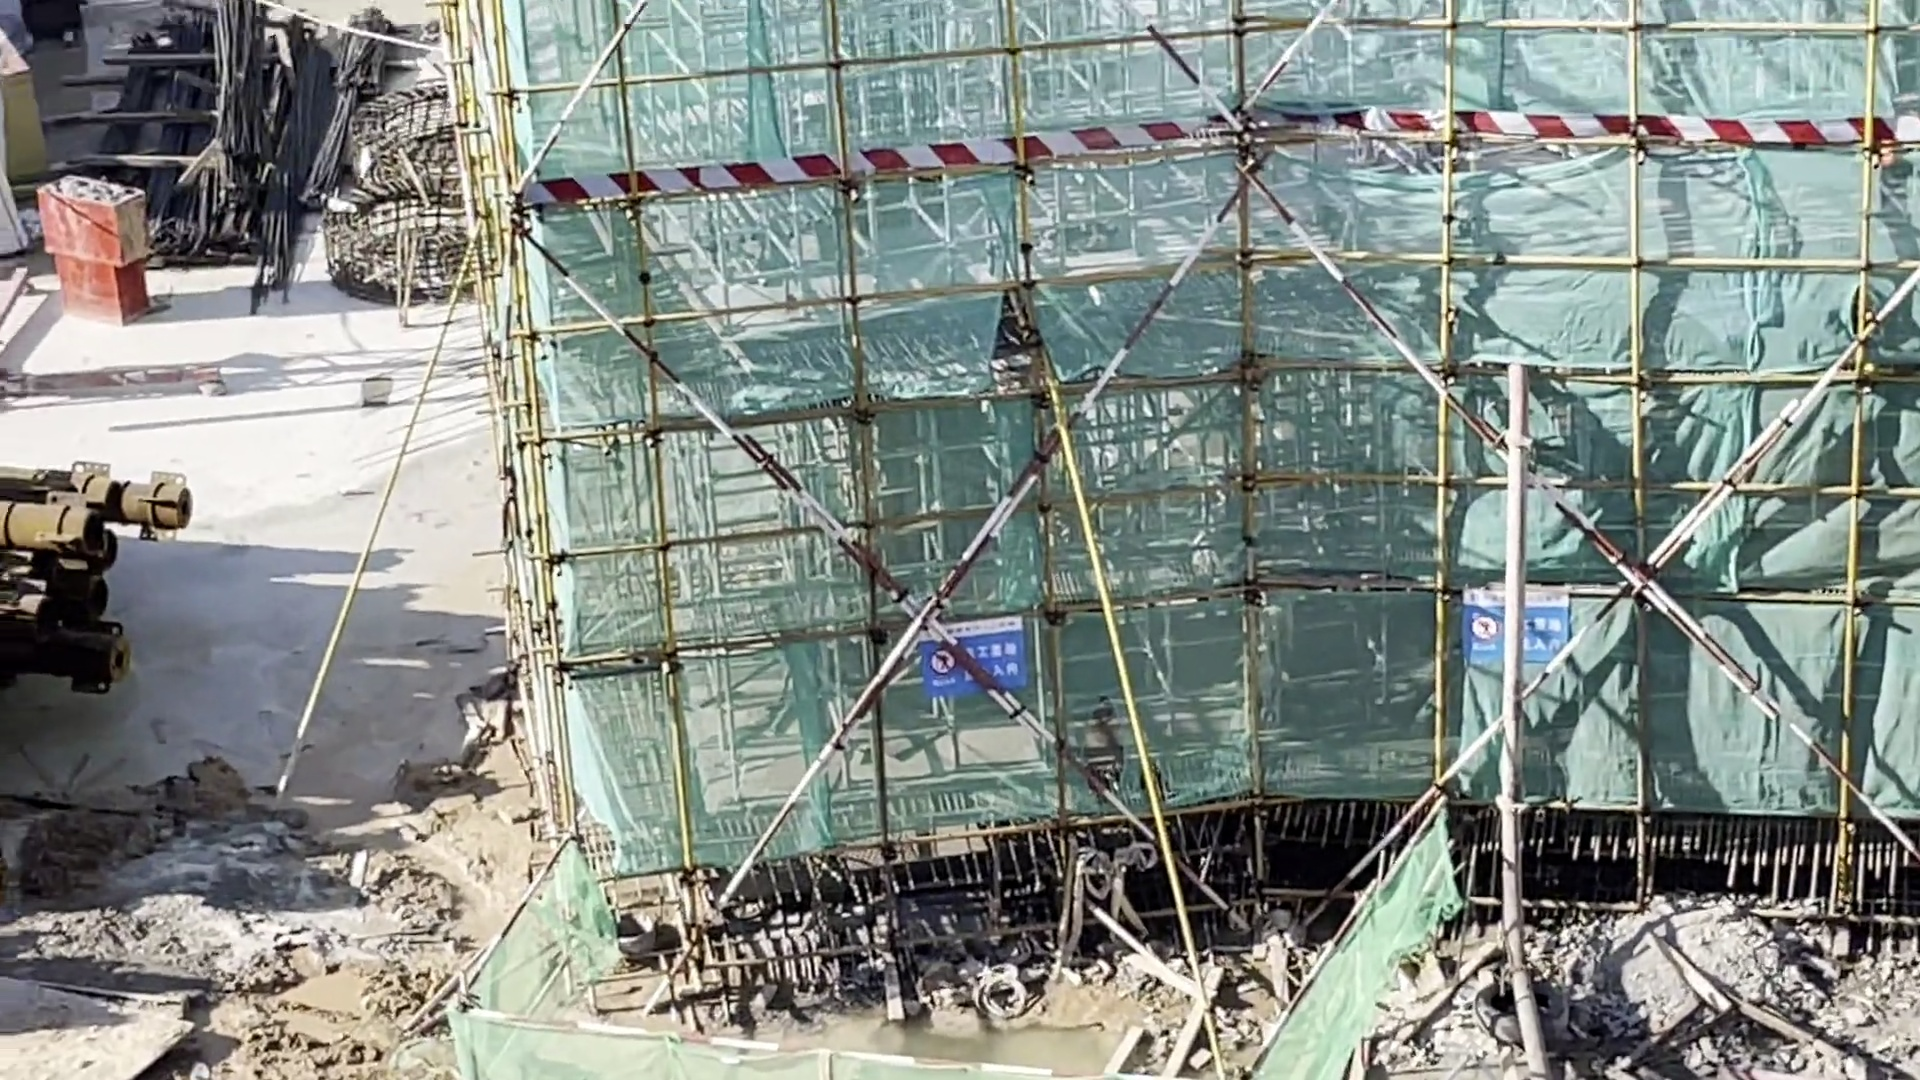slogan: (1455, 556, 1594, 694), (891, 607, 1054, 705)
